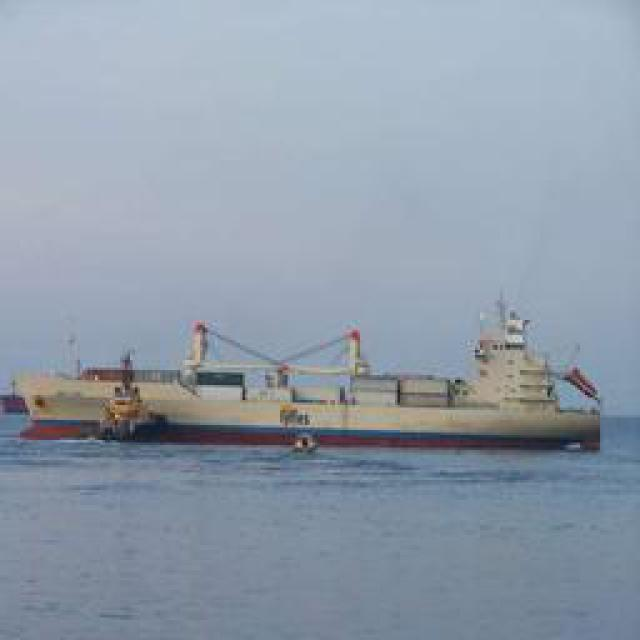Ship: (84, 299, 594, 454)
